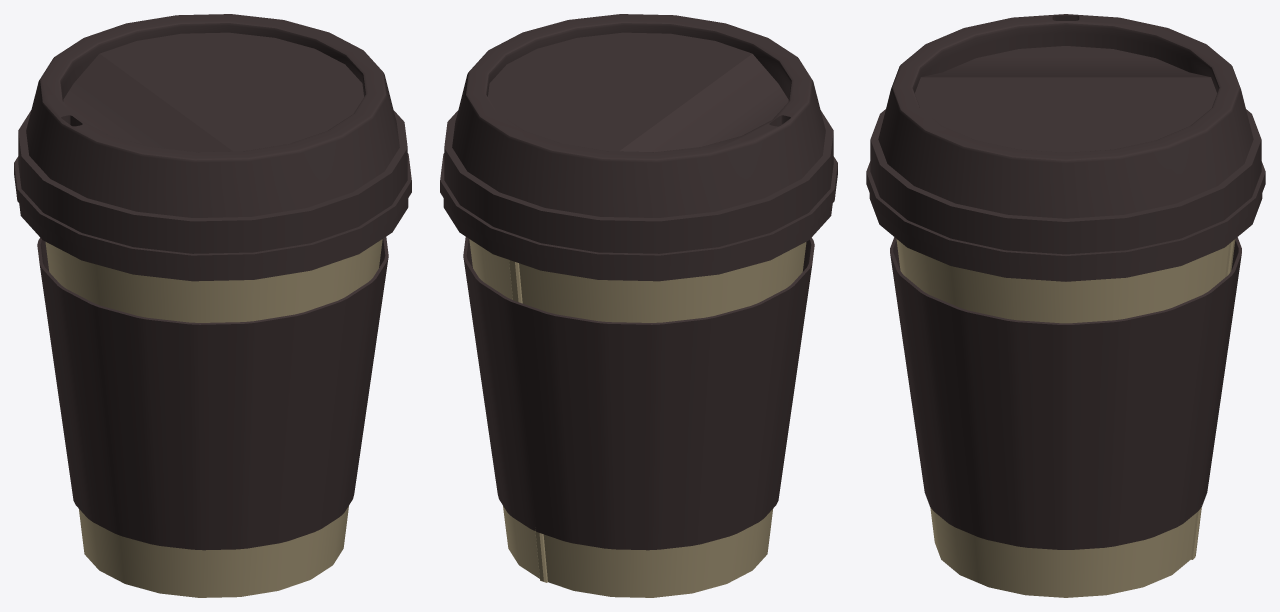
The model's file is takeawaymug.fbx.
3 renders of one model, left to right at view 1: azimuth 30°, elevation 25°; view 2: azimuth 150°, elevation 25°; view 3: azimuth 270°, elevation 25°, orthographic.
Parts seen in each view (by area): view 1: TakeAwayMug; view 2: TakeAwayMug; view 3: TakeAwayMug.
Part boxes in pixels (box(x1,y1,x2,y2)): TakeAwayMug: box(14, 14, 411, 597); TakeAwayMug: box(440, 14, 837, 597); TakeAwayMug: box(866, 14, 1265, 597).
Bounding box in the file's own units: 3.04 × 3.83 × 3.04.
